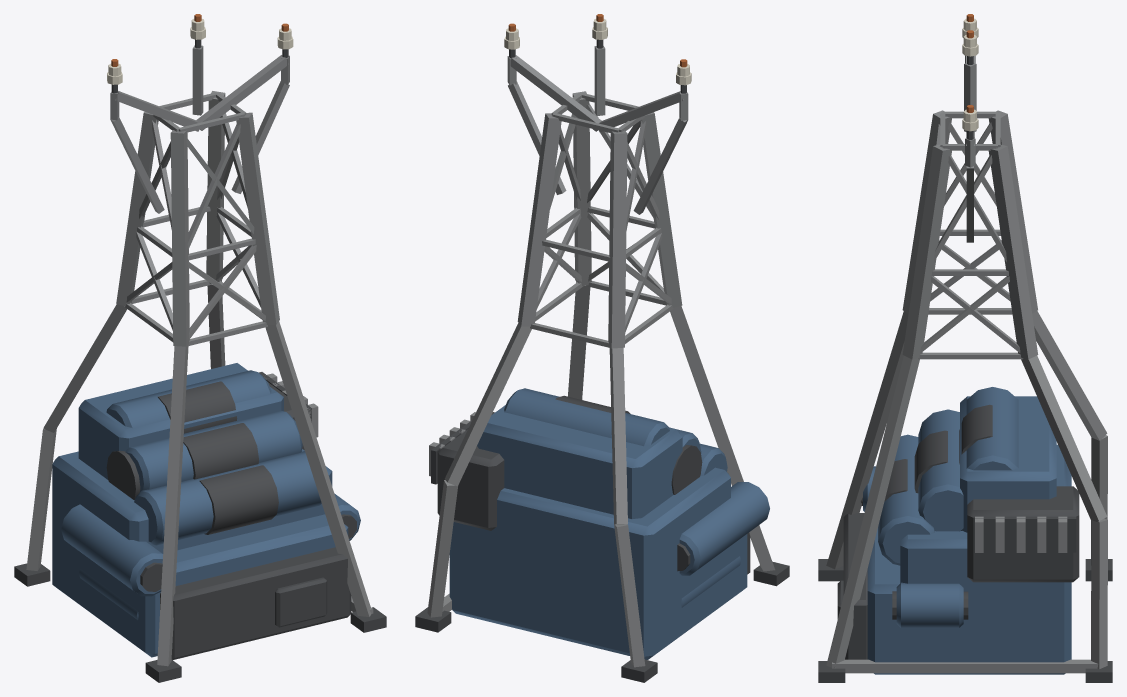
File: substation.glb
3 views of the same model, side by side, from view 1: azimuth 30°, elevation 25°; view 2: azimuth 150°, elevation 25°; view 3: azimuth 270°, elevation 25° (orthographic).
Parts seen in each view (by area): view 1: body; view 2: body; view 3: body.
Boxes of the visible parts, x1,y1,x2,y2 form: body: (14, 14, 386, 682); body: (415, 14, 789, 682); body: (818, 14, 1112, 682).
Size of the model in its own units: 1.95 by 4.42 by 1.97.
